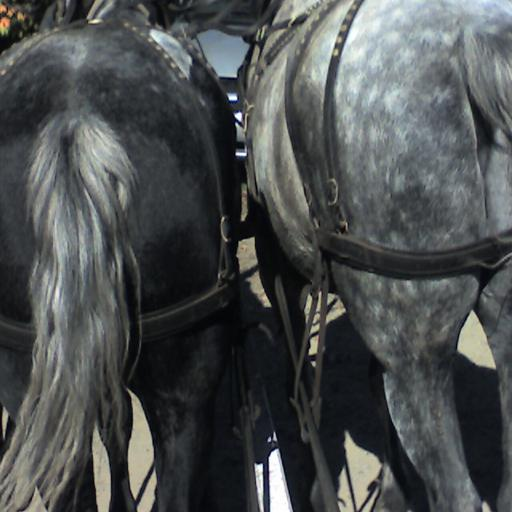horse: (245, 0, 511, 511), (0, 0, 244, 511)
